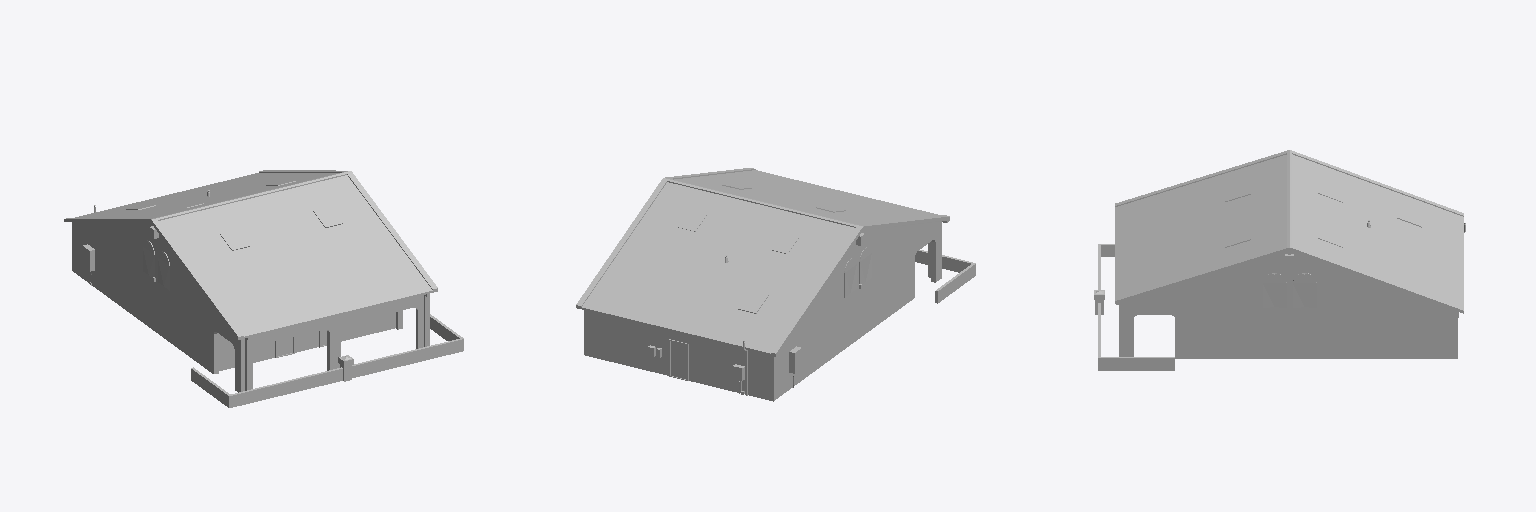
The model's file is Building.obj.
The picture shows the model from 3 angles: view 1: azimuth 30°, elevation 25°; view 2: azimuth 150°, elevation 25°; view 3: azimuth 270°, elevation 25°; orthographic projection.
Visible parts, largest first — view 1: building_m19; view 2: building_m19; view 3: building_m19.
Part boxes in pixels (left/top/right/bottom): building_m19: left=64, top=170, right=463, bottom=407; building_m19: left=576, top=168, right=975, bottom=401; building_m19: left=1094, top=150, right=1465, bottom=370.
Size of the model in its own units: 158 by 73.52 by 216.